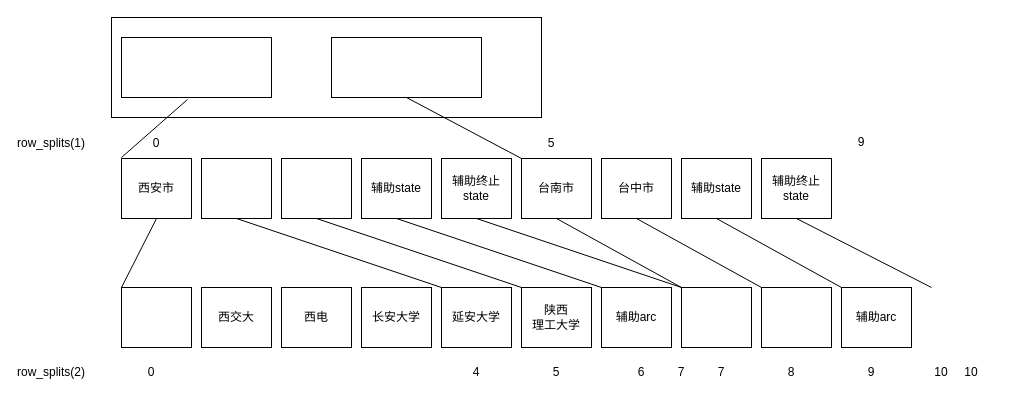
Some shapes in this 1018 by 405 pixel diagram are drawn without their labels. Here are the shapes that lost their labels. From the top down, the box of each, then its label:
(120, 36, 272, 98): 陕西省
(330, 36, 482, 98): 台湾省
(200, 158, 272, 218): 延安市
(280, 158, 352, 218): 汉中市
(120, 286, 192, 348): 西工大
(680, 286, 752, 348): 成功大学
(760, 286, 832, 348): 逢甲大学
